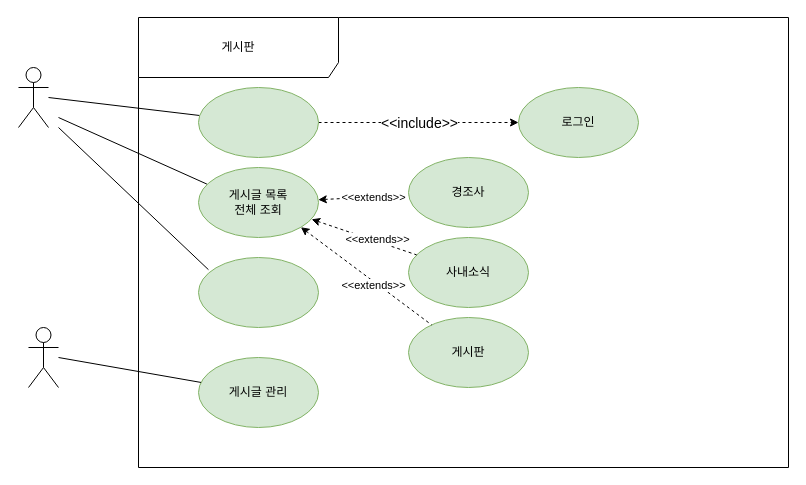
Image size: 806x485. Some labels were removed from this diagram. The shapes that lost their labels are listed below. From the top down, each one's centre as x and y in pixels, then its label:
At point 33,97: "이용자".
At point 258,122: "게시글 등록 및 삭제".
At point 258,292: "게시글 상세 보기".
At point 43,357: "관리자".
